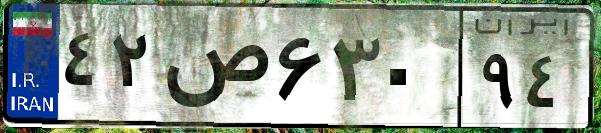0: (385, 28, 445, 110)
2: (110, 28, 158, 98)
3: (330, 28, 385, 110)
4: (57, 26, 110, 100), (525, 38, 570, 115)
6: (270, 28, 330, 110)
9: (475, 38, 525, 113)
ص: (158, 20, 270, 120)
